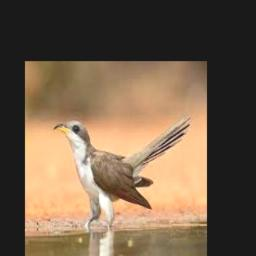Cuckoo: (53, 113, 191, 226)
